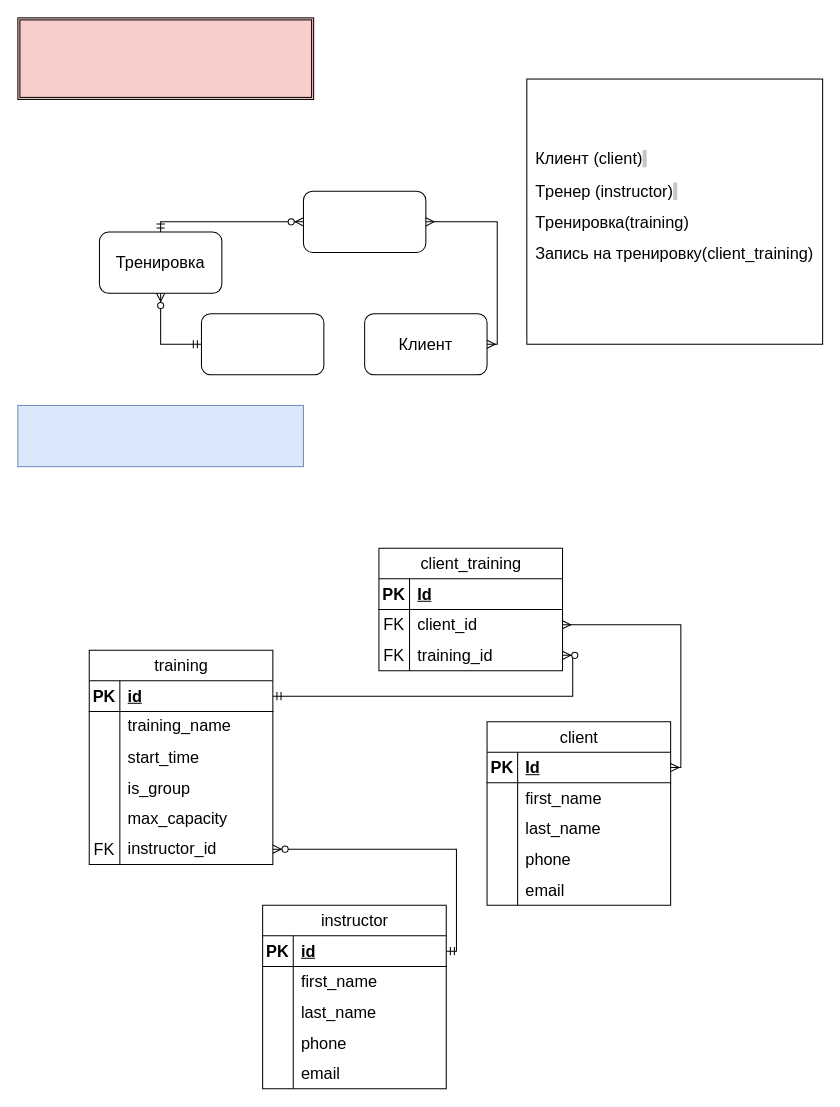
Some shapes in this 840 by 1107 pixel diagram are drawn without their labels. The shapes that lost their labels are listed below. From the top down, each one's centre as x and y in pixels, then its label:
pixel 165 58: Концептуальная модель
pixel 364 221: Запись на тренировку
pixel 262 344: Тренер
pixel 160 435: Логическая модель
